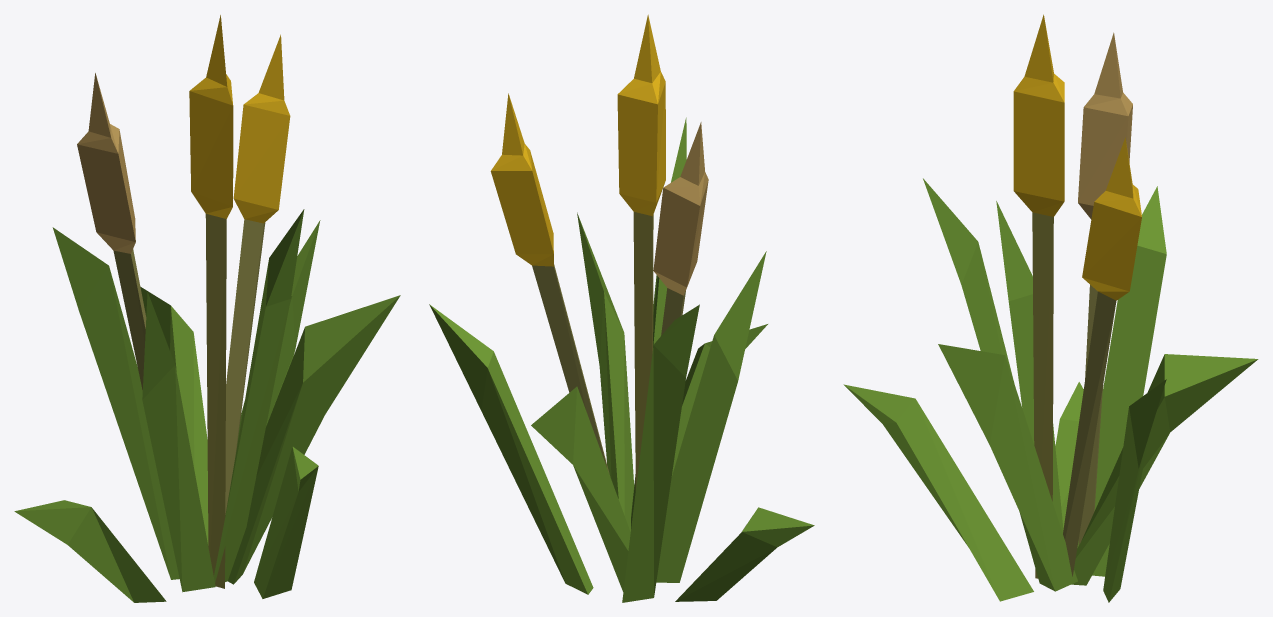
Rendered from Env_Flower05.FBX.
The picture shows the model from 3 angles, left to right: view 1: azimuth 30°, elevation 25°; view 2: azimuth 150°, elevation 25°; view 3: azimuth 270°, elevation 25°; orthographic projection. The views are drawn at different scales.
Parts seen in each view (by area): view 1: Env_Flower05; view 2: Env_Flower05; view 3: Env_Flower05.
Boxes of the visible parts, bbox=[...] form: Env_Flower05: bbox=[14, 15, 400, 602]; Env_Flower05: bbox=[429, 14, 814, 602]; Env_Flower05: bbox=[843, 14, 1258, 602].
Bounding box in the file's own units: 88.9 × 140 × 92.42.
1 material, 1 textured.
